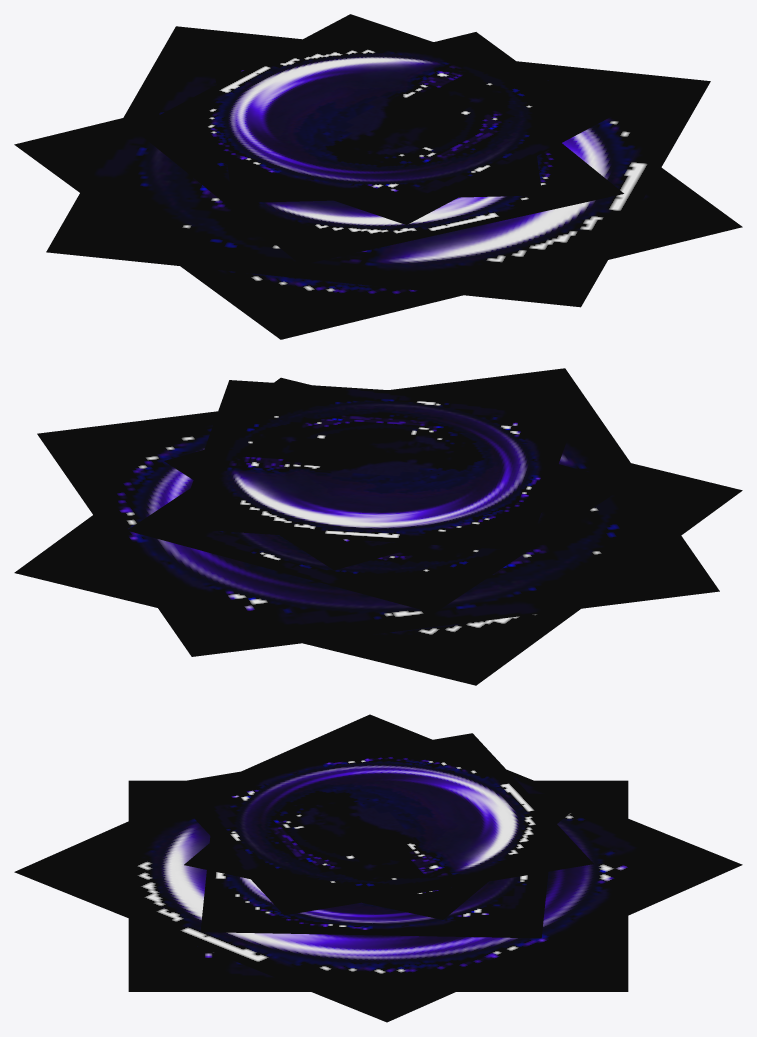
File: xuanwo1.FBX
3 views of the same model, one above another, from view 1: azimuth 30°, elevation 25°; view 2: azimuth 150°, elevation 25°; view 3: azimuth 270°, elevation 25° (orthographic). The views are drawn at different scales.
Parts seen in each view (by area): view 1: Plane004; view 2: Plane004; view 3: Plane004.
Part boxes in pixels (x1=…): Plane004: x1=14, y1=14, x2=742, y2=339; Plane004: x1=14, y1=368, x2=742, y2=685; Plane004: x1=14, y1=714, x2=742, y2=1022.
Bounding box in the file's own units: 3.72 × 0.3497 × 3.72.
Materials: 1 (1 with a texture image).
